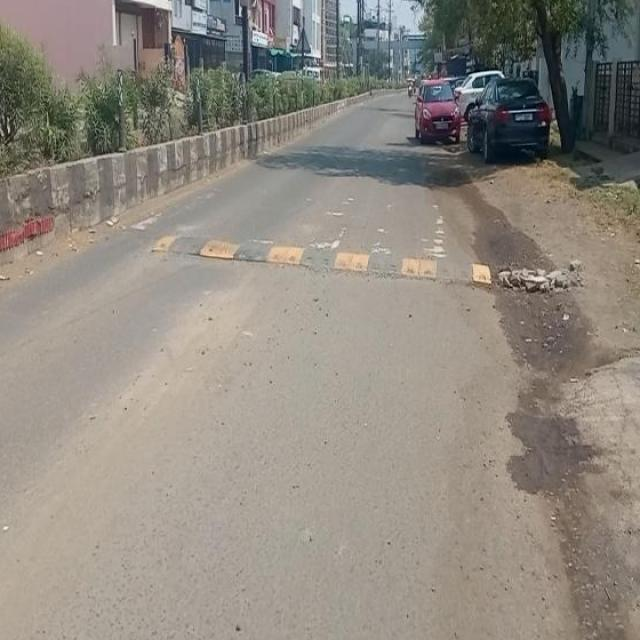NonMarked Bump: (145, 215, 500, 300)
